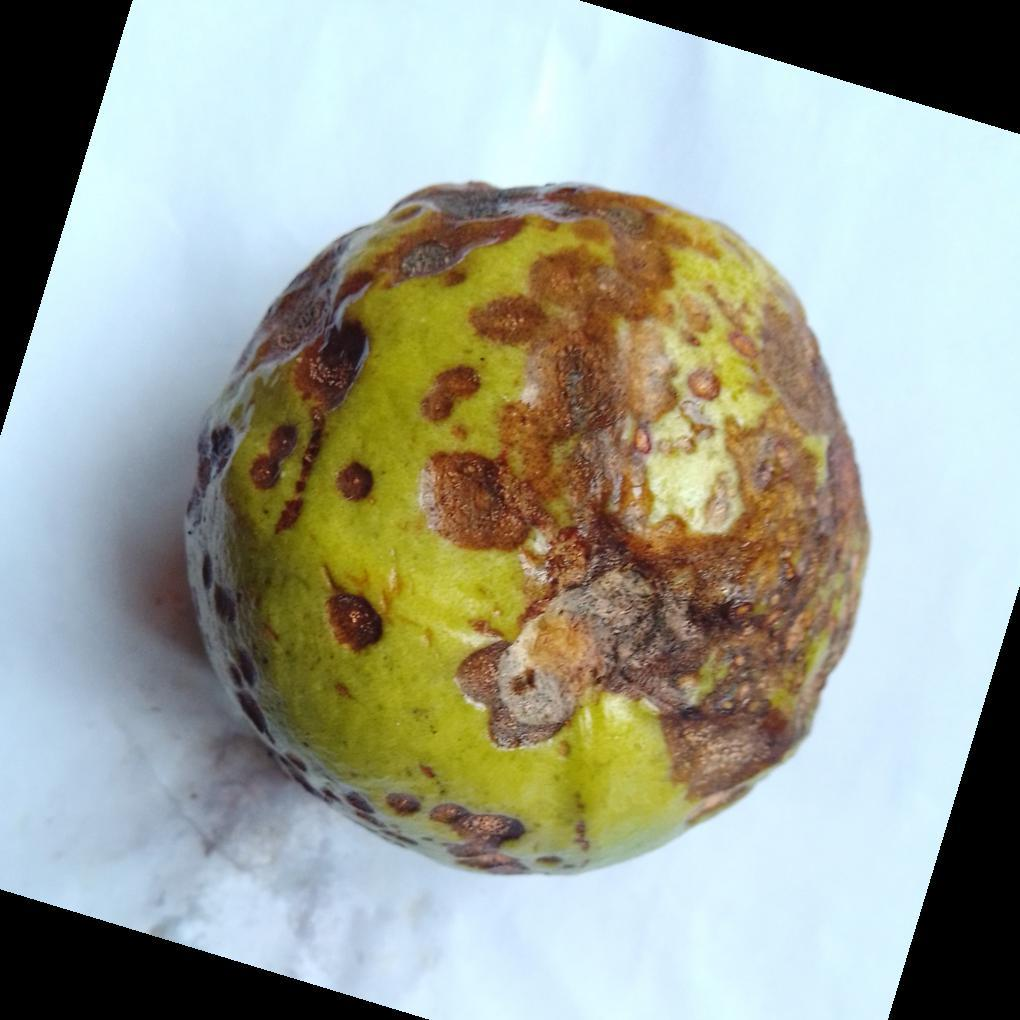FreshOrange: (181, 184, 872, 880)
